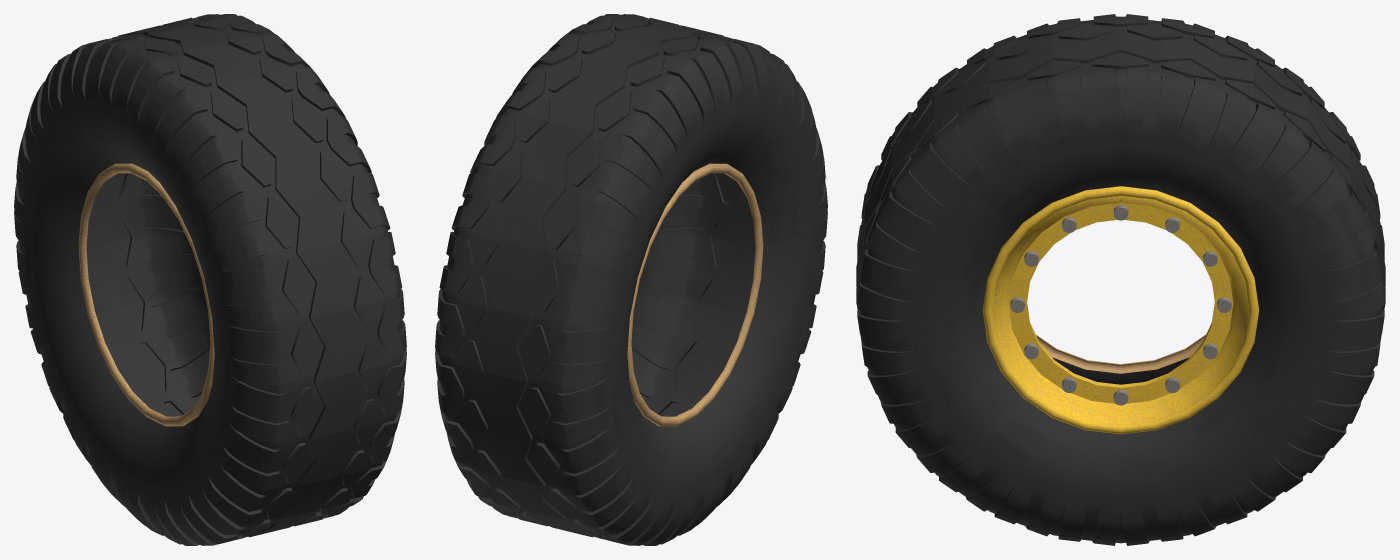
3 views of the same model, side by side, from view 1: azimuth 30°, elevation 25°; view 2: azimuth 150°, elevation 25°; view 3: azimuth 270°, elevation 25° (orthographic).
Parts seen in each view (by area): view 1: front_wheel (×11); view 2: front_wheel (×12); view 3: front_wheel (×7).
Part boxes in pixels (x1,y1,x2,y2): front_wheel (×11): (14, 14, 406, 545); front_wheel (×12): (435, 14, 827, 545); front_wheel (×7): (856, 14, 1385, 545).
Size of the model in its own units: 20.79 by 56.65 by 55.94.
